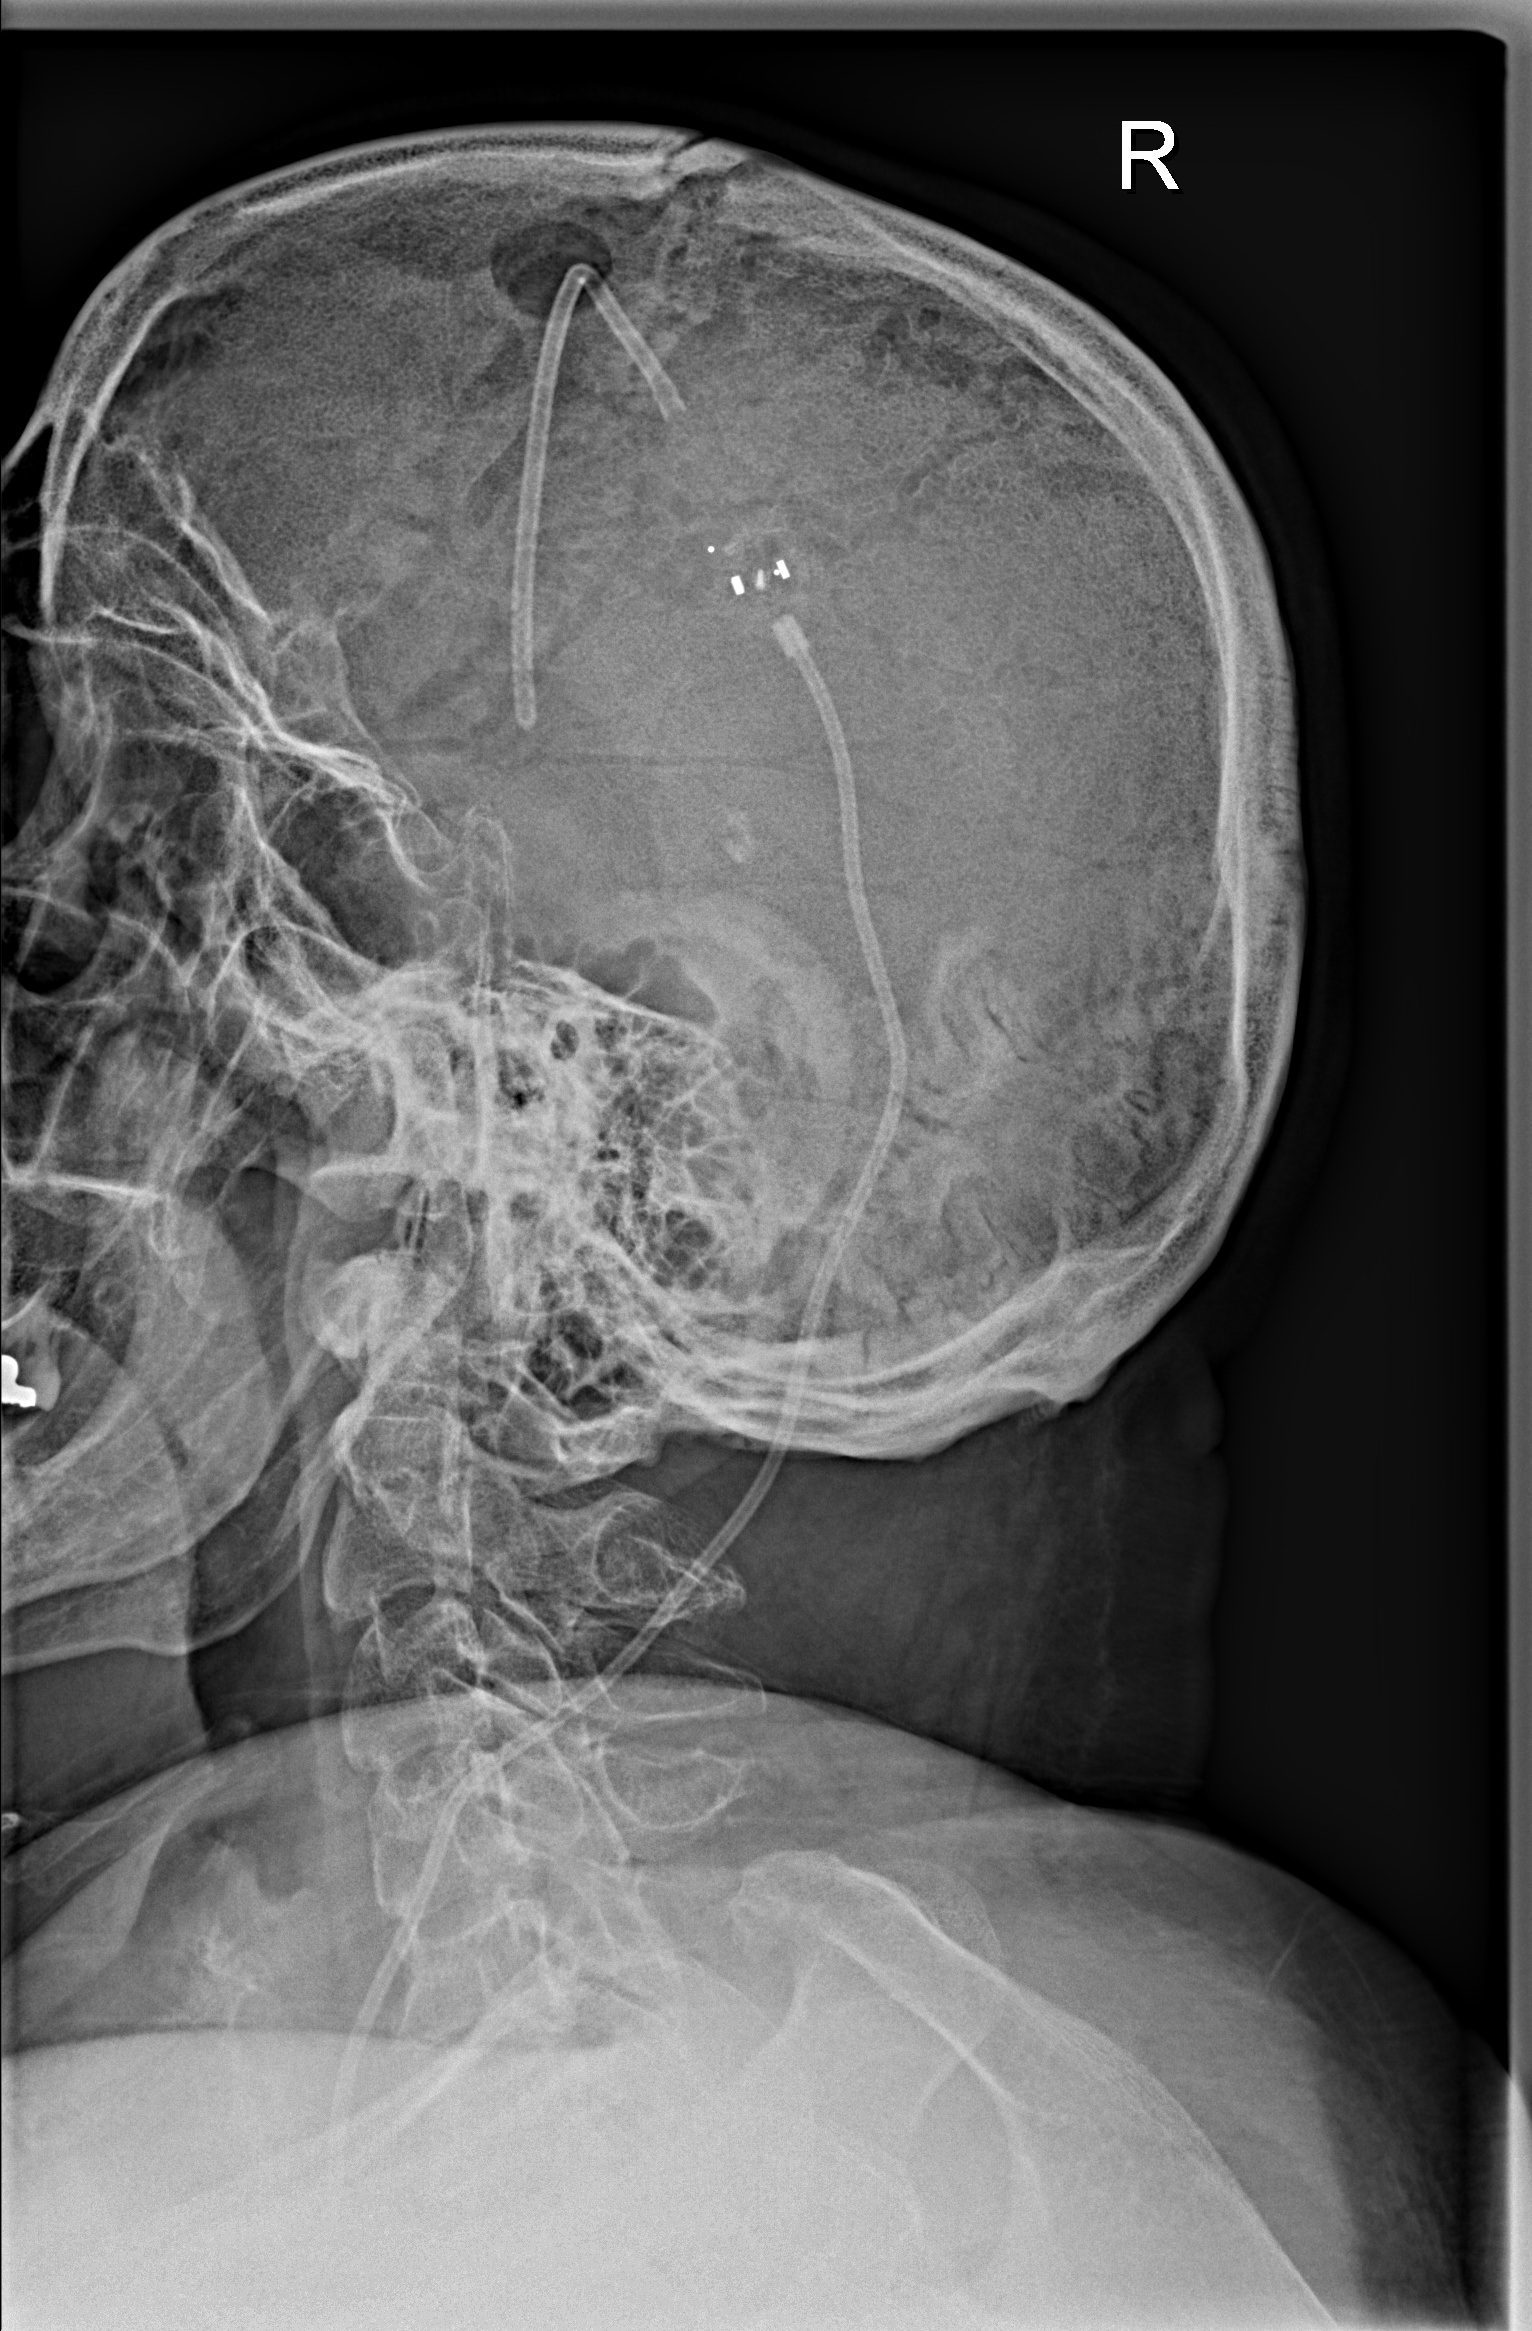Codman Certas: (699, 520, 810, 637)
